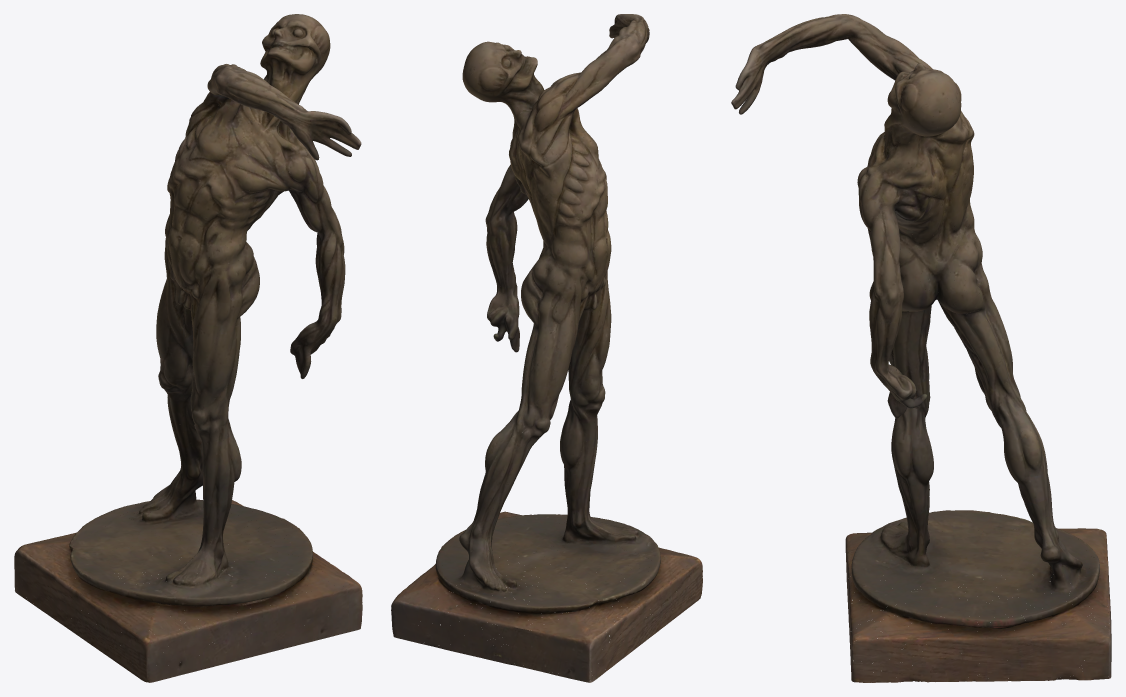
File: nosotros.glb
The picture shows the model from 3 angles, left to right: view 1: azimuth 30°, elevation 25°; view 2: azimuth 150°, elevation 25°; view 3: azimuth 270°, elevation 25°; orthographic projection. The views are drawn at different scales.
Parts seen in each view (by area): view 1: Object_3, Object_4, Object_2; view 2: Object_2, Object_3, Object_4; view 3: Object_2, Object_3, Object_4.
Part boxes in pixels (x1=…): Object_3: x1=14, y1=48, x2=362, y2=682; Object_4: x1=19, y1=14, x2=362, y2=671; Object_2: x1=14, y1=94, x2=344, y2=609; Object_2: x1=391, y1=26, x2=654, y2=682; Object_3: x1=393, y1=58, x2=702, y2=682; Object_4: x1=407, y1=14, x2=696, y2=675; Object_2: x1=736, y1=89, x2=1111, y2=682; Object_3: x1=845, y1=81, x2=1111, y2=682; Object_4: x1=731, y1=14, x2=1110, y2=681.
Size of the model in its own units: 0.2553 by 0.6422 by 0.3681.
Materials: 1 (1 with a texture image).
